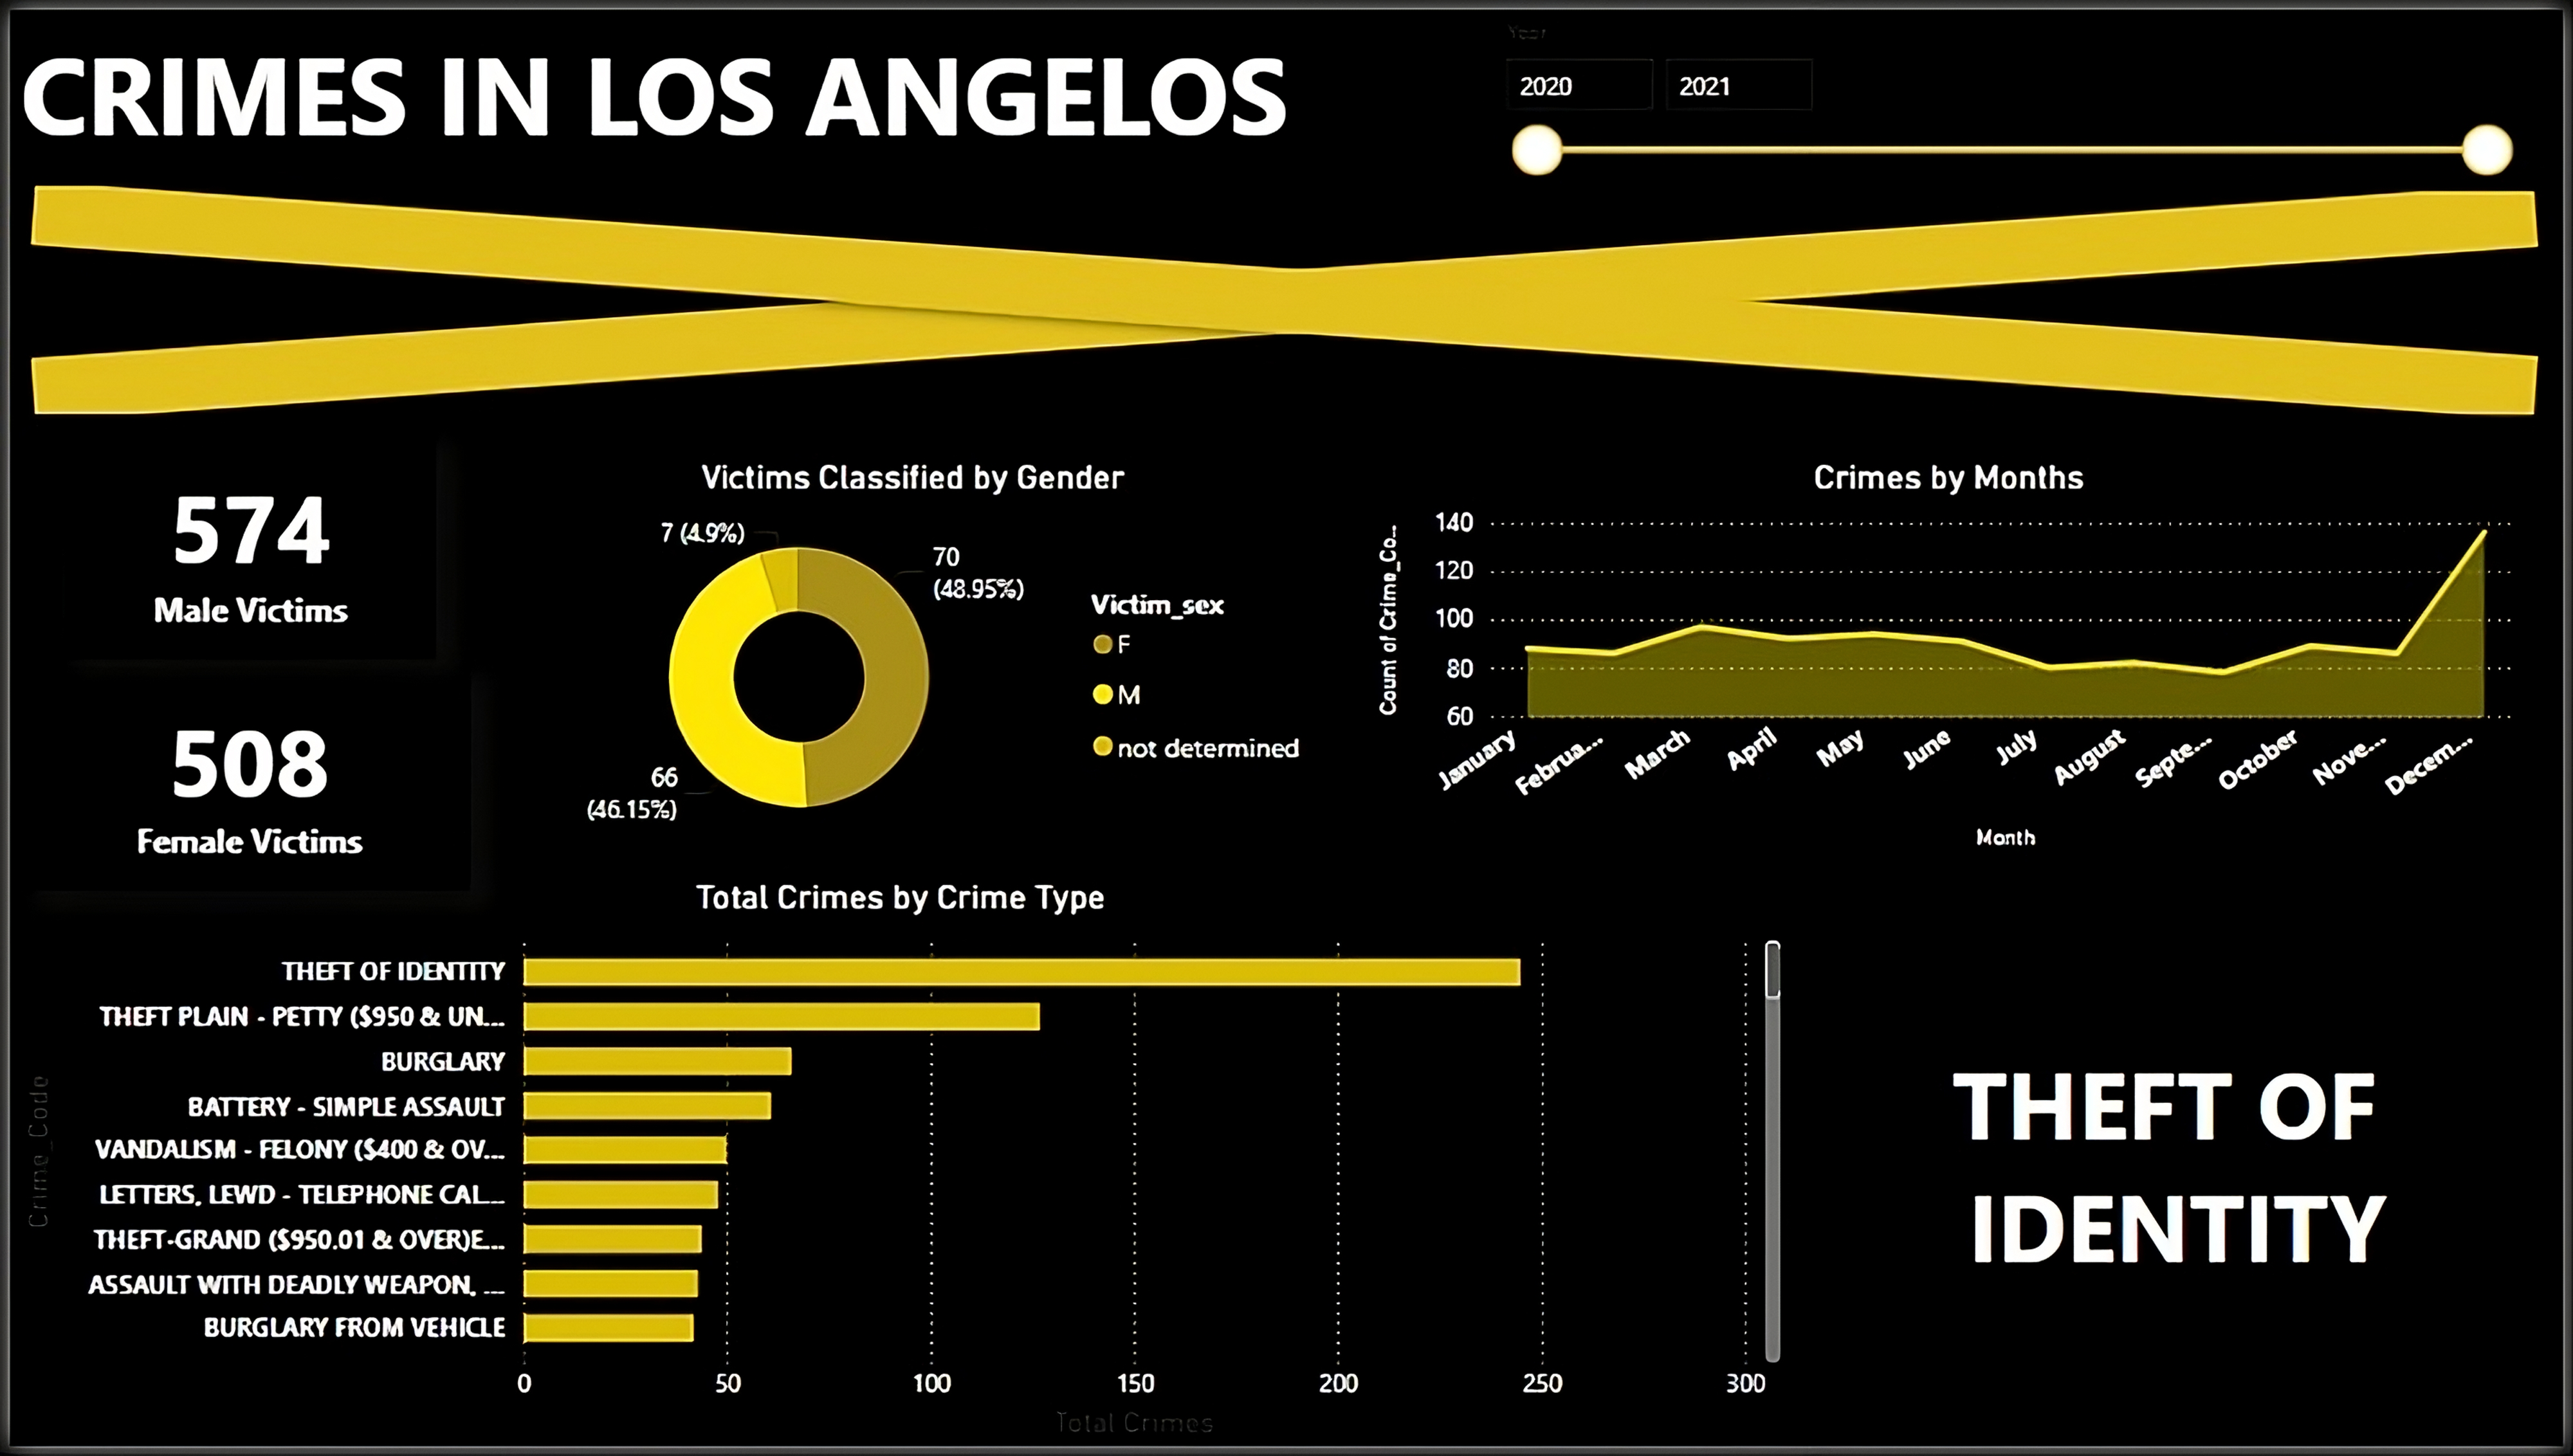

What the dashboard file says about the page in this screenshot:
{"tool":"powerbi","page":{"name":"Page 1","canvas":[1280,720],"ordinal":0},"visuals":[{"type":"slicer","title":"Total Crimes by Gender","fields":{"Values":["Crime_Data_from_2020_to_Present.Date_occured.Variation.Date Hierarchy.Year"]},"box":[737,0,526,90],"z":0},{"type":"donutChart","title":"Victims Classified by Gender","fields":{"Y":["Count(Crime_Data_from_2020_to_Present.Victim_age)"],"Category":["Crime_Data_from_2020_to_Present.Victim_sex"]},"box":[244,224,417,202],"z":1000},{"type":"areaChart","title":"Crimes by Months","fields":{"Y":["CountNonNull(Crime_Data_from_2020_to_Present.Crime_Code)"],"Category":["Crime_Data_from_2020_to_Present.Date_occured.Variation.Date Hierarchy.Month"]},"box":[681,224,582,202],"z":2000},{"type":"barChart","title":"Total Crimes by Crime  Type","fields":{"Category":["Crime_Data_from_2020_to_Present.Crime_Code"],"Y":["Crime_Data_from_2020_to_Present.Total Crimes"]},"box":[0,434,893,286],"z":3000},{"type":"shape","box":[0,90,1278.3,111.7],"z":4000},{"type":"shape","box":[0,88.3,1278.3,115],"z":5000},{"type":"card","fields":{"Values":["Crime_Data_from_2020_to_Present.MostCommonValue"]},"box":[893,441,387,279],"z":6000},{"type":"card","fields":{"Values":["Crime_Data_from_2020_to_Present.Male"]},"box":[26,212,187,113],"z":7000},{"type":"card","fields":{"Values":["Crime_Data_from_2020_to_Present.Measure"]},"box":[8,329,223,112],"z":8000},{"type":"textbox","box":[0,0,681,81],"z":9000}]}

Visuals, with their boxes in screenshot pixels (x1, y1, x2, y2), scaled from the page's 1280x720 canvas onto the 2573x1456 screenshot:
"Total Crimes by Gender" slicer: region(1481, 0, 2539, 182)
"Victims Classified by Gender" donutChart: region(490, 453, 1329, 862)
"Crimes by Months" areaChart: region(1369, 453, 2539, 862)
"Total Crimes by Crime  Type" barChart: region(0, 878, 1795, 1455)
shape: region(0, 182, 2570, 408)
shape: region(0, 179, 2570, 411)
card - Crime_Data_from_2020_to_Present.MostCommonValue: region(1795, 892, 2572, 1455)
card - Crime_Data_from_2020_to_Present.Male: region(52, 429, 428, 657)
card - Crime_Data_from_2020_to_Present.Measure: region(16, 666, 464, 892)
textbox: region(0, 0, 1369, 164)
